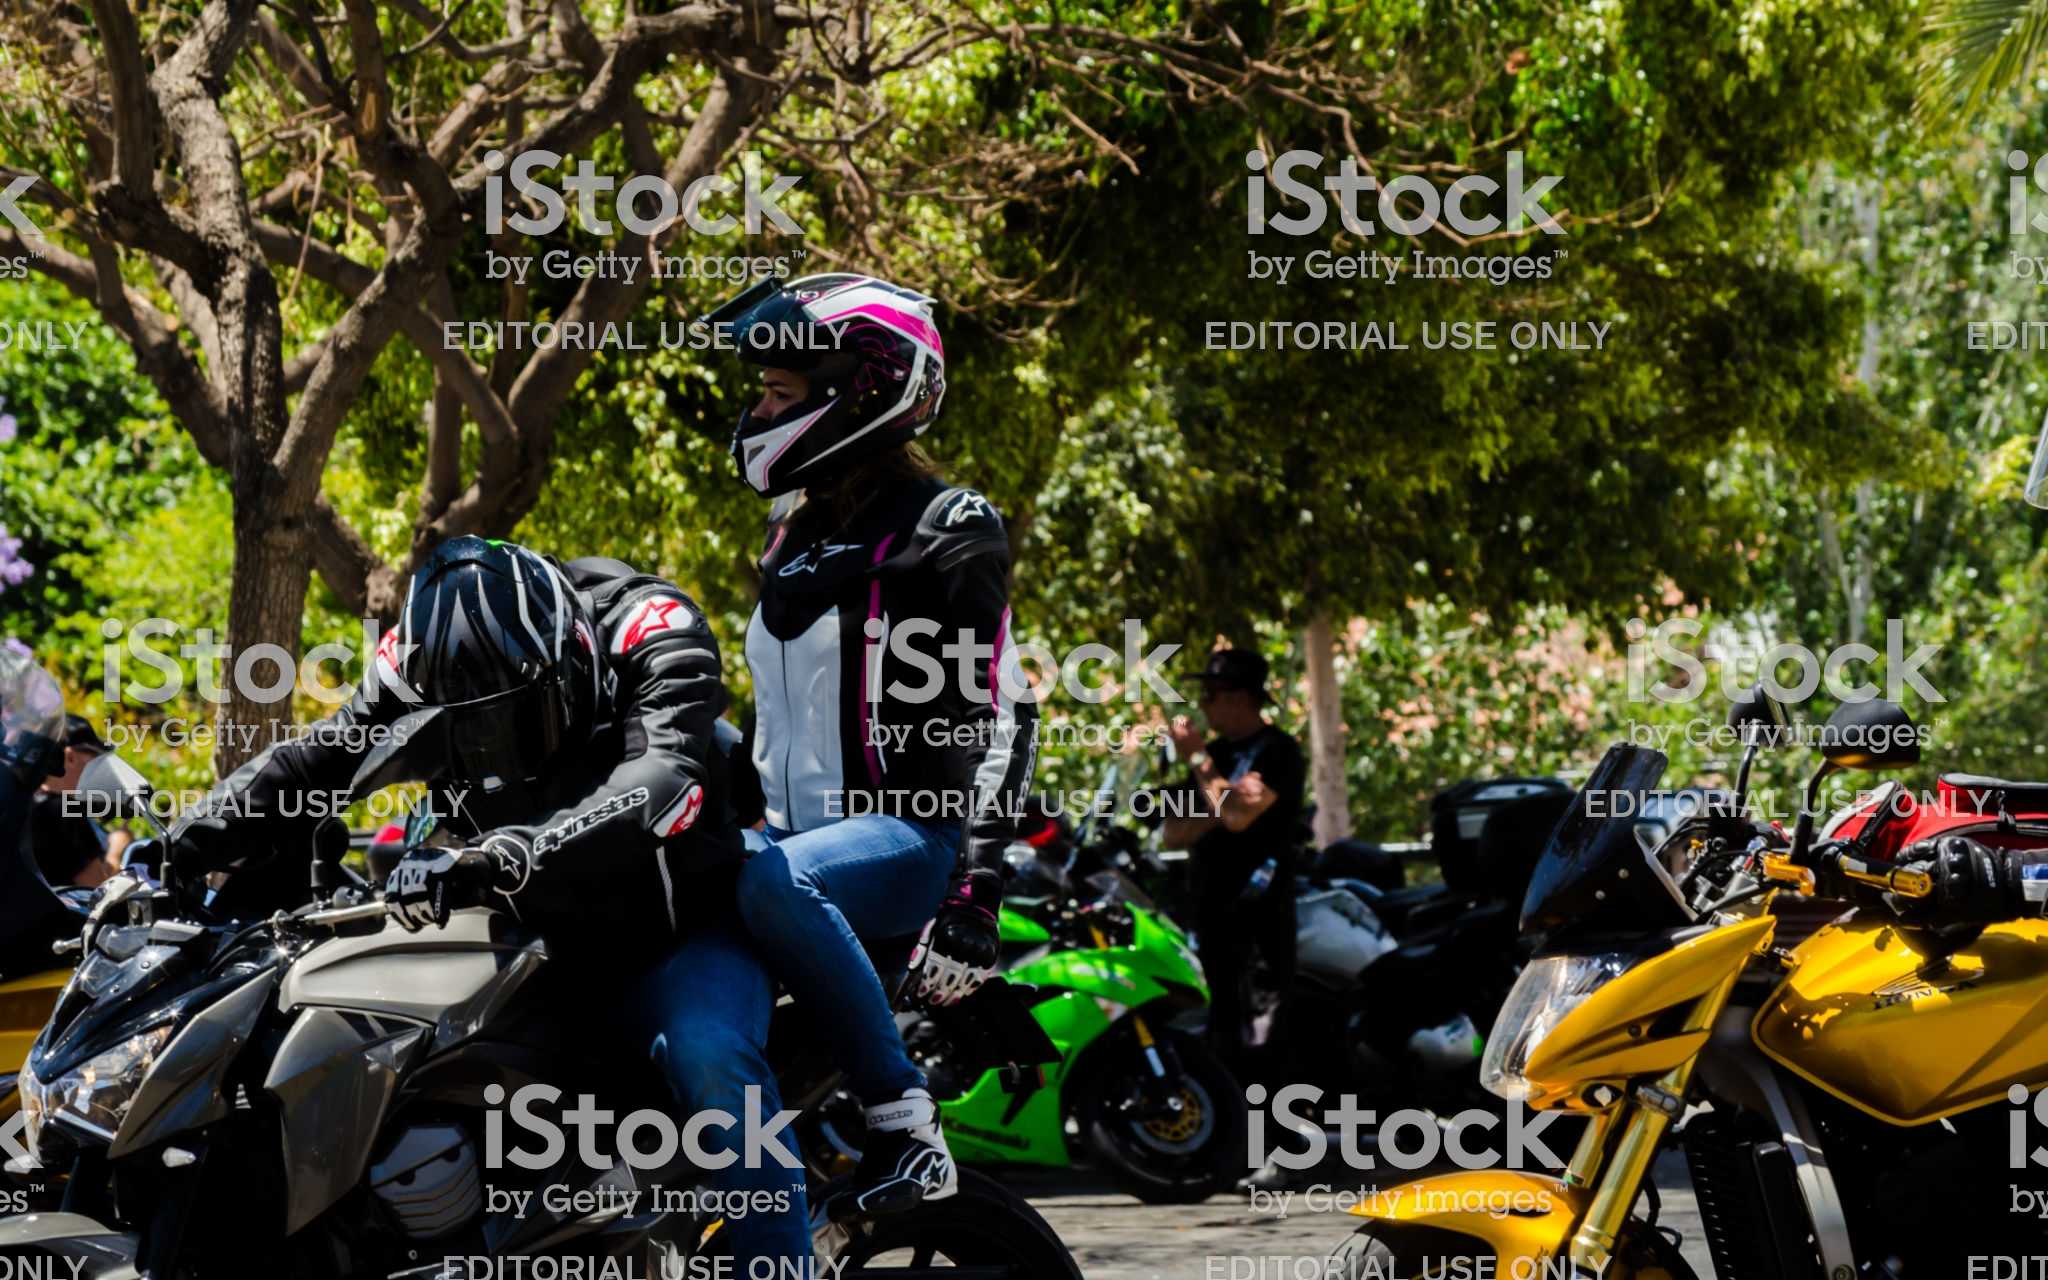helmet: (697, 232, 966, 476)
